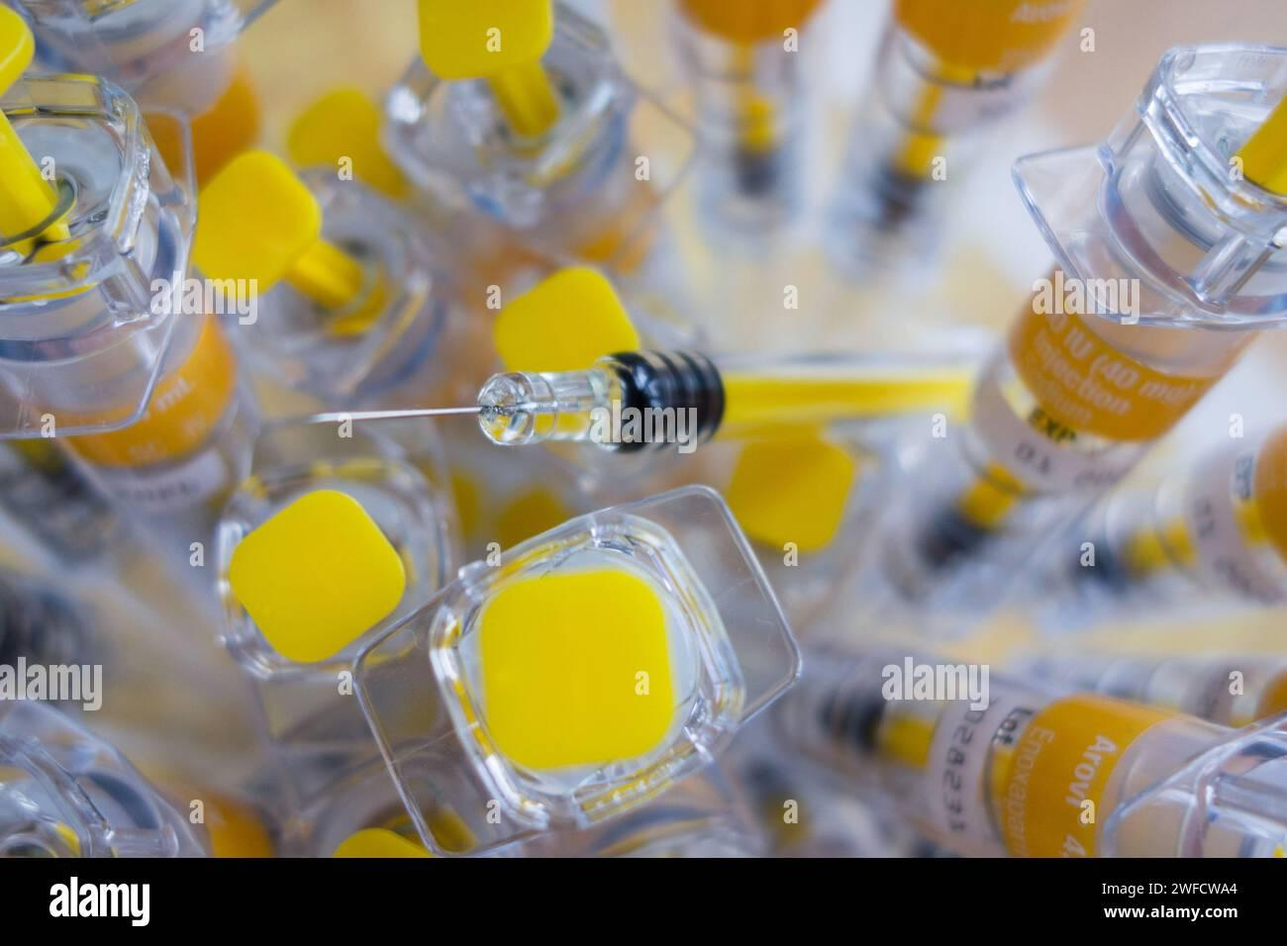Syringe: (879, 47, 1286, 612), (778, 647, 1286, 856), (384, 0, 692, 270), (828, 0, 1083, 270), (310, 352, 970, 451), (14, 0, 274, 179), (0, 702, 272, 857), (1051, 426, 1286, 603), (676, 0, 818, 231), (1008, 648, 1286, 726)
